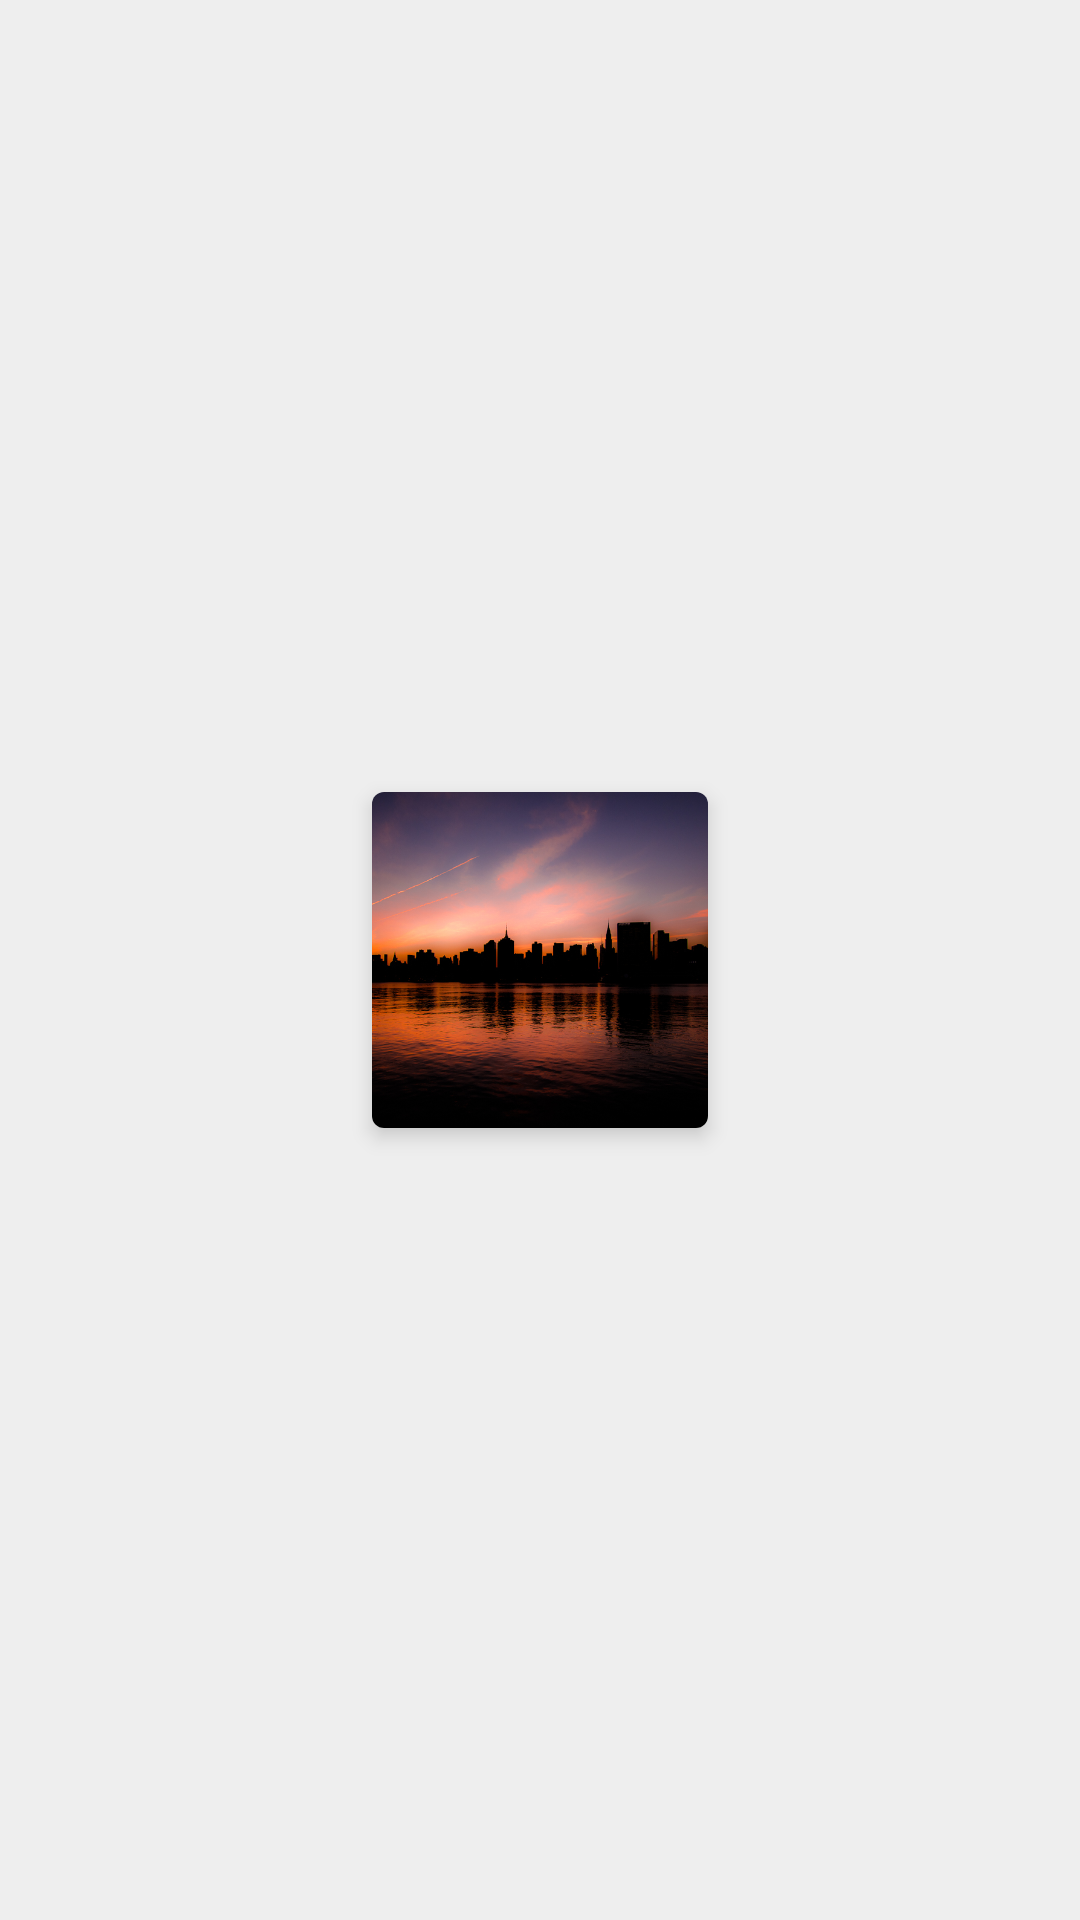

Icon bounding boxes for this 1080 × 1920 phone screenshot, format (x1, y1, x2, y2):
ny skyline: (372, 792, 708, 1128)
